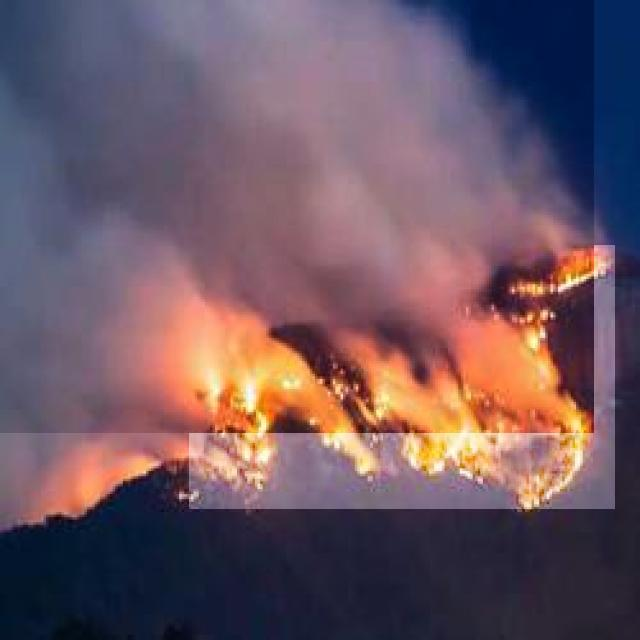Fire: (190, 245, 616, 509)
Smoke: (0, 0, 594, 433)
